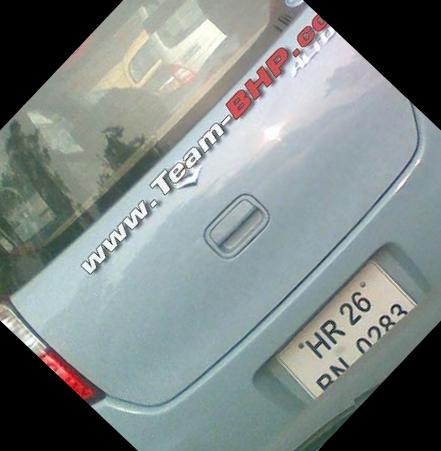plate: (266, 253, 423, 413)
